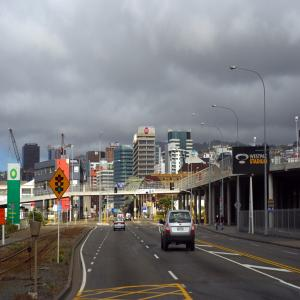Vehicle-registration-plate: (177, 227, 184, 232)
